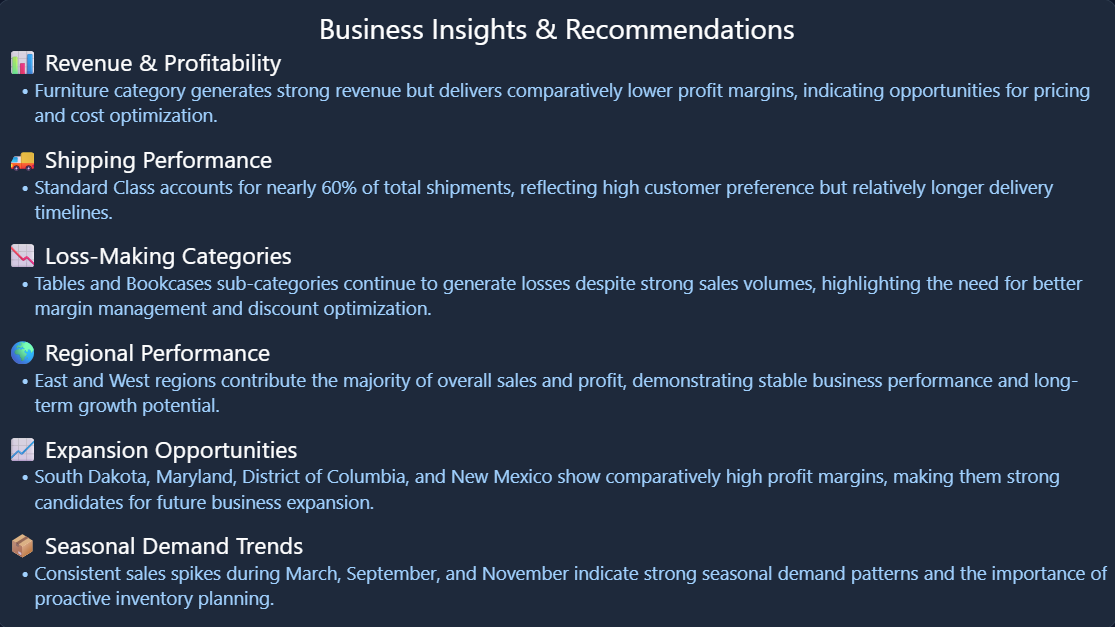

The page's visual inventory and layout, read from the dashboard file:
{"tool":"powerbi","page":{"name":"Business Insights & Recommendations","canvas":[1280,720],"ordinal":3},"visuals":[{"type":"textbox","box":[0,0,1280,720],"z":1000}]}

Visuals, with their boxes in screenshot pixels (x1, y1, x2, y2), scaled from the page's 1280x720 canvas onto the 1115x627 screenshot:
textbox: bbox=[0, 0, 1114, 626]
